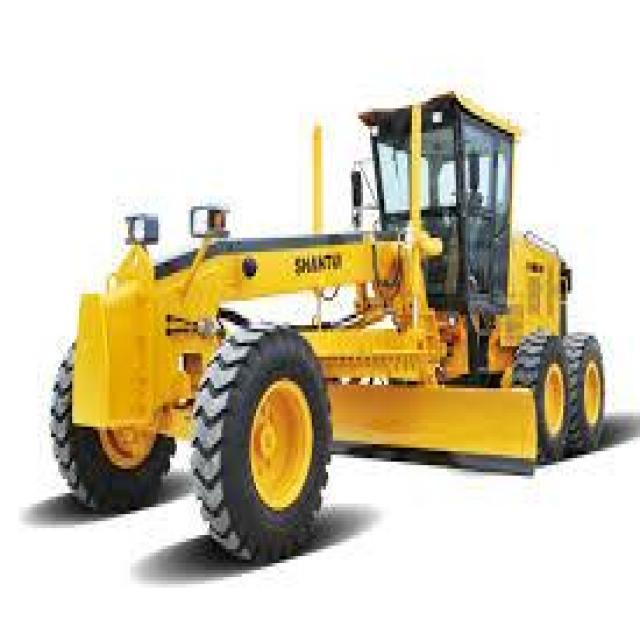Grader: (33, 63, 622, 570)
